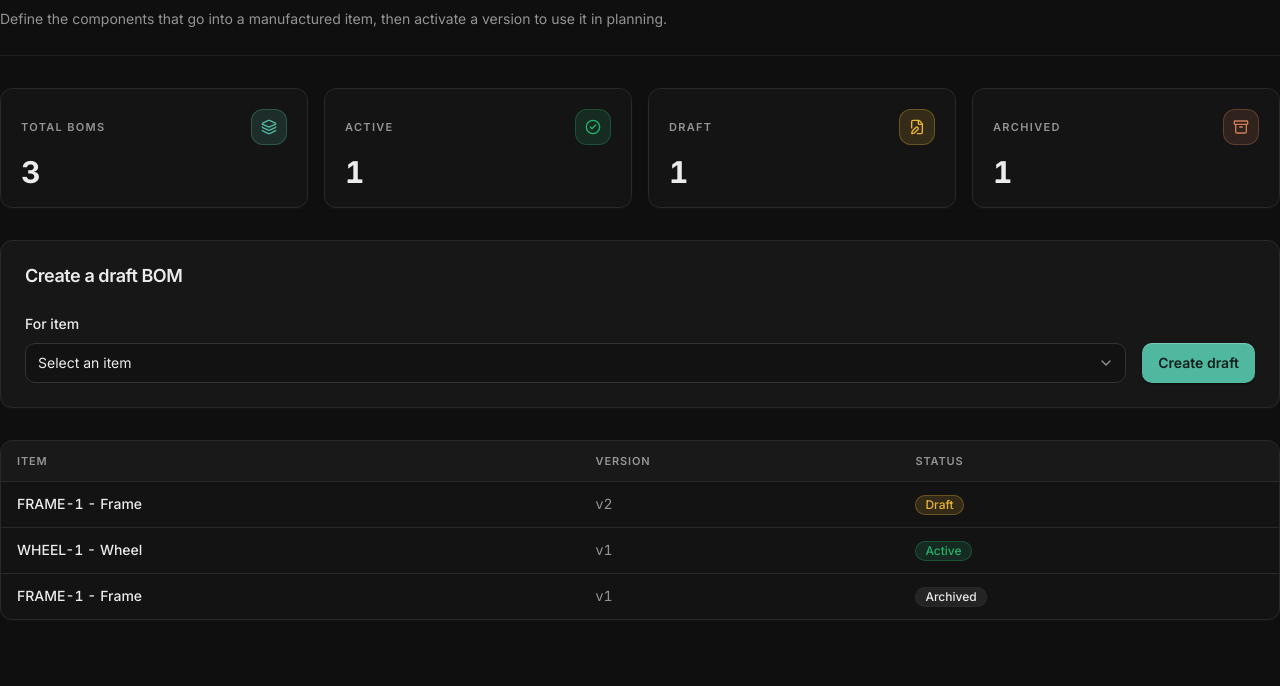
Scenario: Boms › renders draft lines with unit and scrap columns, excluding the parent item from components
Click the text "v2" at [599, 504], box [580,481,899,527]
(page scrolled)
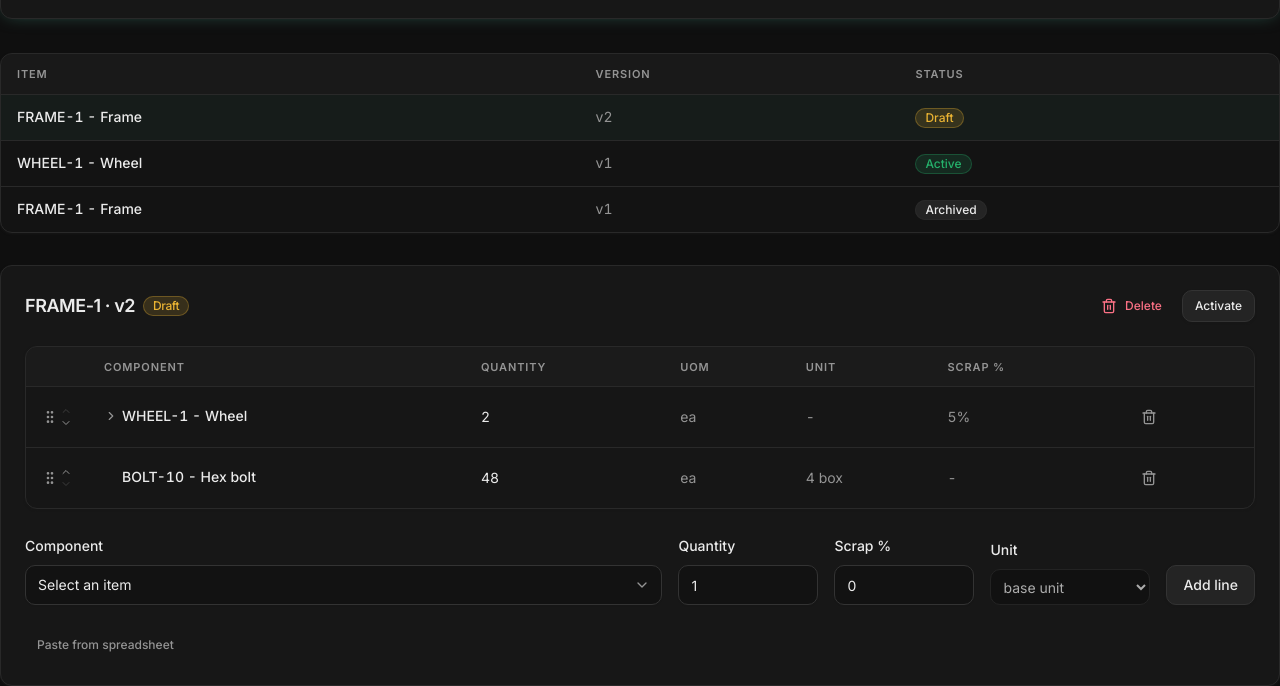
Check: the heading "FRAME-1 · v2 Draft" is shown, box [25,294,189,317]
Check: the text "5%" is shown, box [931,387,1115,448]
Check: the text "4 box" is shown, box [790,448,931,508]
